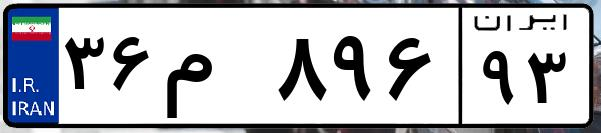3: (57, 26, 110, 100), (525, 38, 570, 115)
6: (385, 28, 445, 110), (110, 28, 158, 98)
8: (270, 28, 330, 110)
9: (330, 28, 385, 110), (475, 38, 525, 113)
م: (158, 20, 270, 120)
